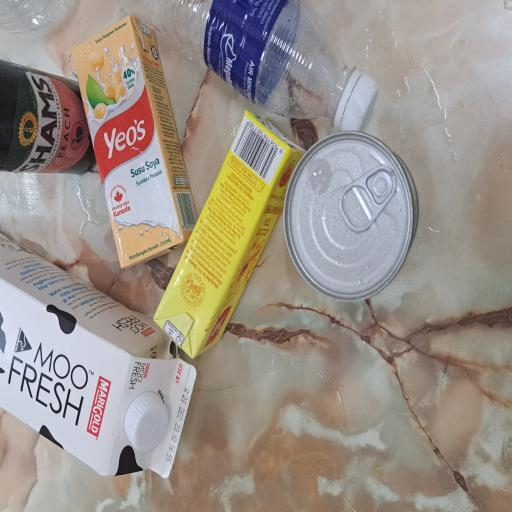can: (158, 378, 285, 512)
drink carton: (23, 0, 210, 263), (115, 204, 302, 409), (182, 94, 373, 264)
glass bottle: (251, 0, 338, 128)
plastic bottle: (290, 158, 384, 468)
plastic bottle cap: (46, 165, 91, 228), (284, 452, 330, 508)
pop tab: (209, 451, 261, 512)
